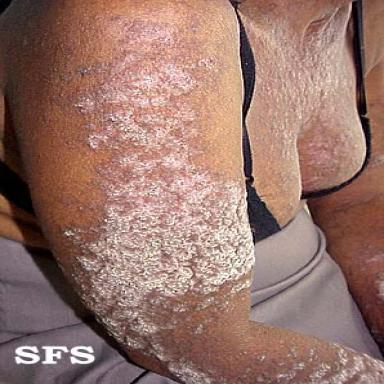Darier_s-Disease: (49, 14, 257, 384), (245, 341, 384, 384)
